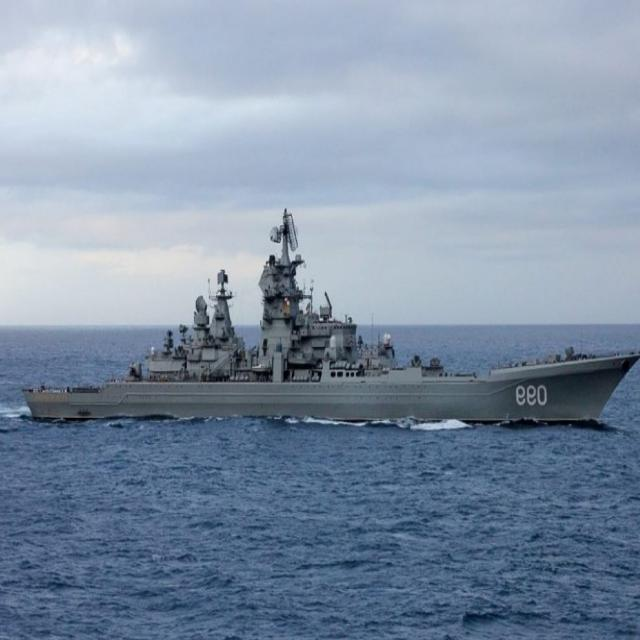navalvessels: (24, 198, 635, 449)
